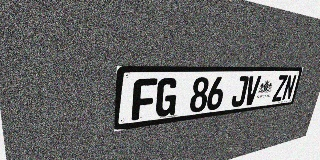6: (206, 77, 226, 111)
8: (189, 77, 211, 113)
F: (131, 78, 157, 121)
G: (154, 78, 179, 118)
J: (230, 76, 249, 107)
N: (281, 75, 297, 101)
V: (243, 76, 261, 106)
Z: (272, 75, 288, 102)
